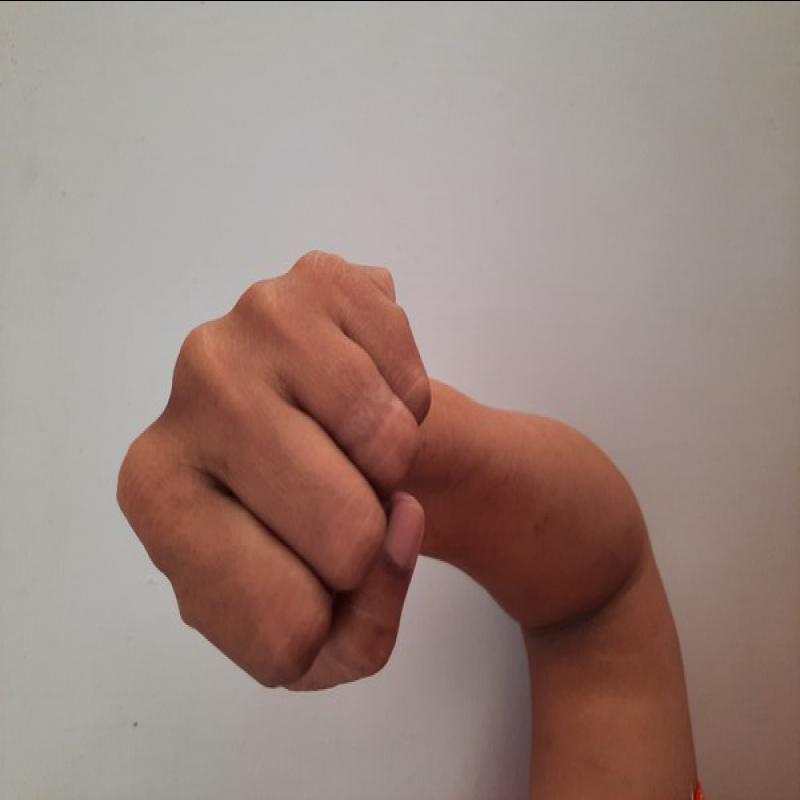Mushti: (108, 240, 437, 698)
